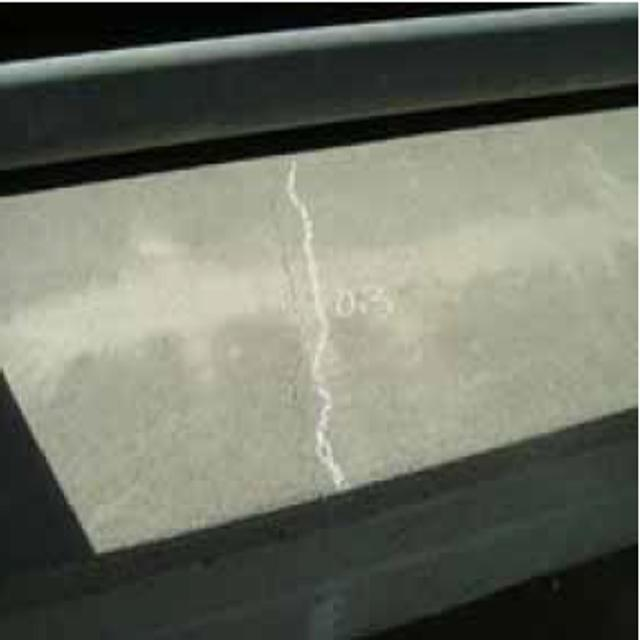crack: (263, 169, 336, 510)
